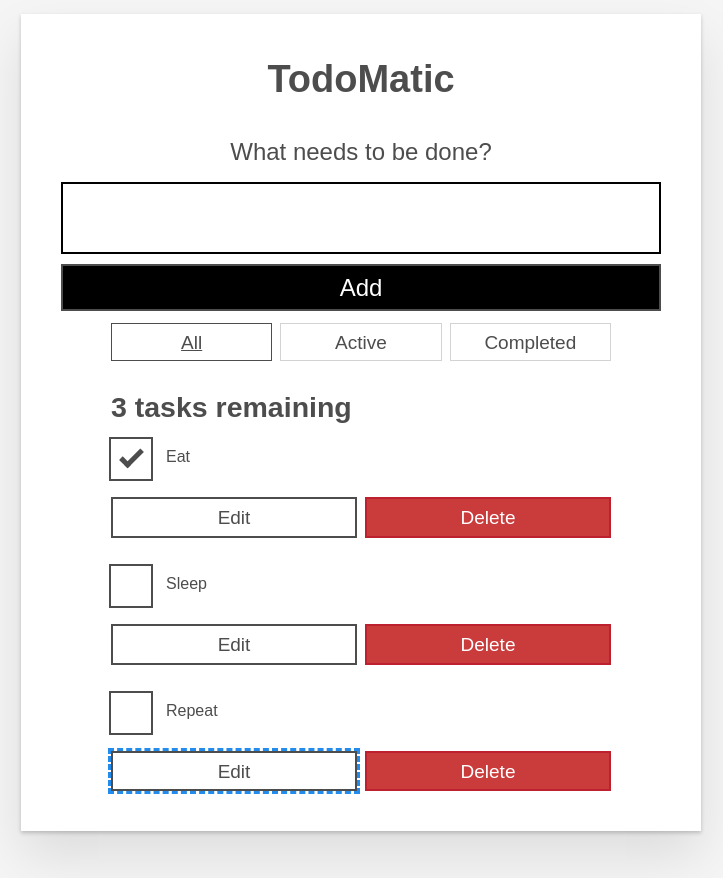
Test: Functionality of App › Should delete todo when delete button pressed
Expected: the element with test id "testid-eat" shows "Eat", [166,448,190,465]
Expected: the element with test id "testid-eat" is shown, [111,439,611,538]
Step 1. Click the button named "delete eat" → (488, 517), box [365,497,611,538]
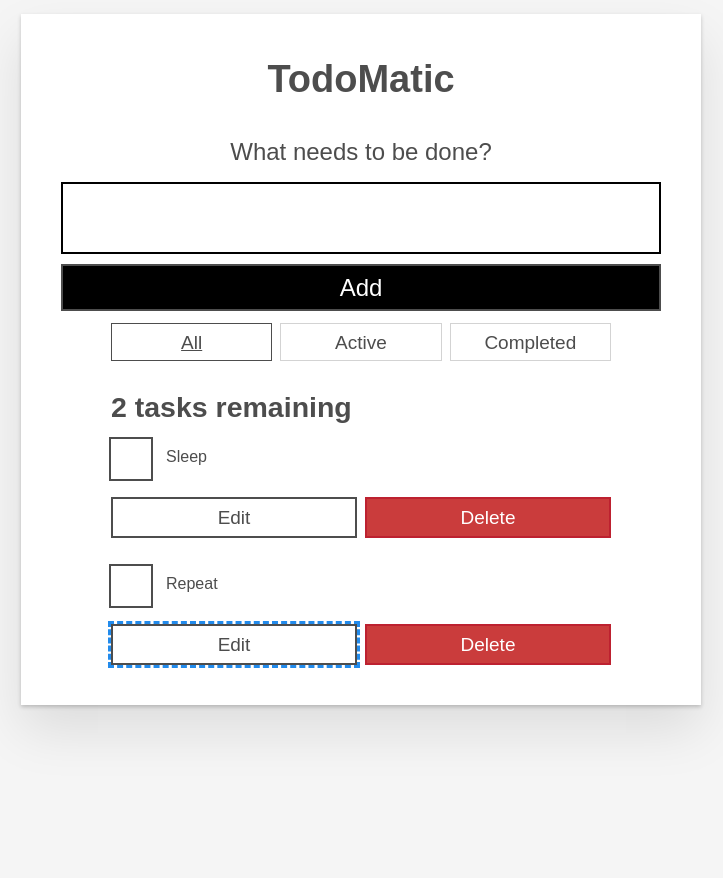
Expected: the element with test id "testid-eat" is gone
